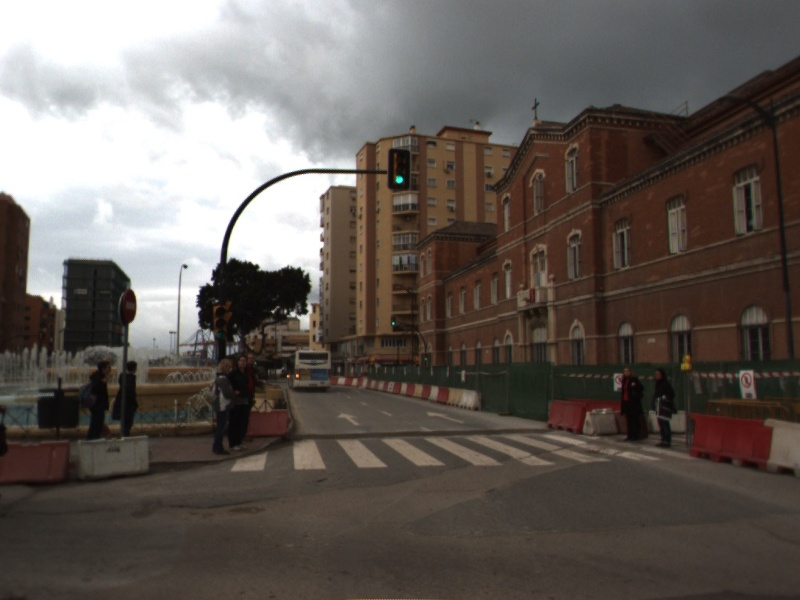STRAIGHT: (425, 409, 466, 425), (335, 411, 362, 427)
